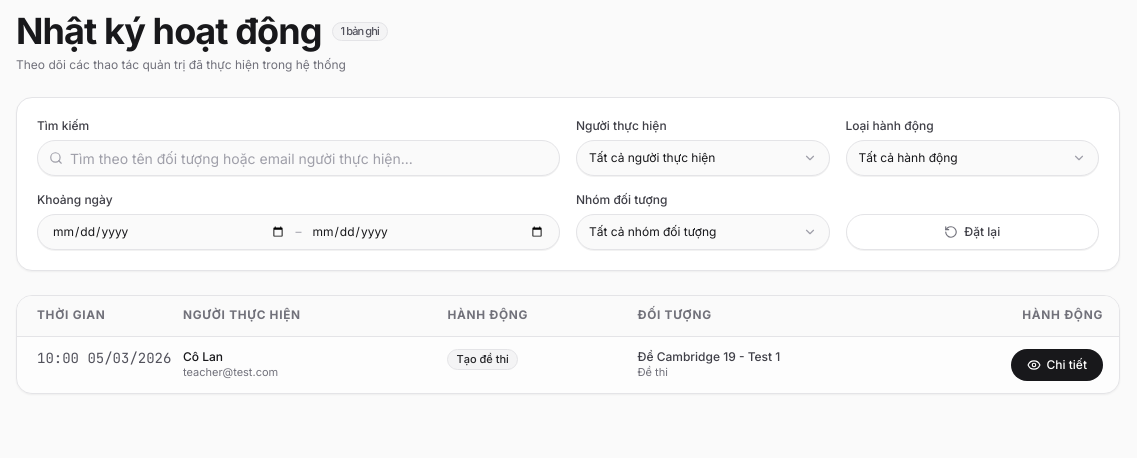
Test: AuditLogs page — trạng thái rỗng › shows a plain "no match" message (not the rollout message) when a filter yields zero results
This screenshot has width=1137, height=458.
Check: the text "Cô Lan" is shown, box [183, 349, 223, 365]
Click the button "Tất cả nhóm đối tượng" at (703, 232), box [576, 214, 830, 250]
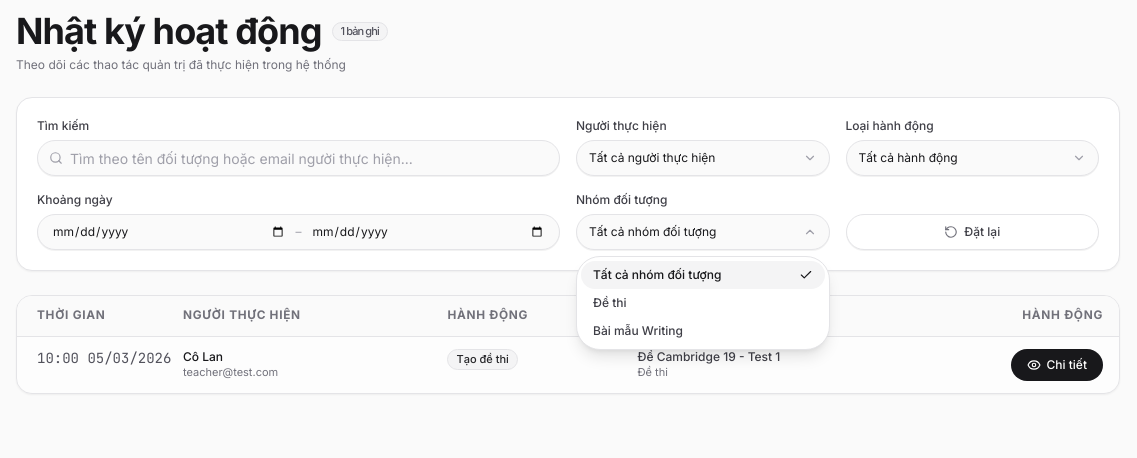
Click the option "Bài mẫu Writing" at (638, 330), box [593, 323, 683, 338]
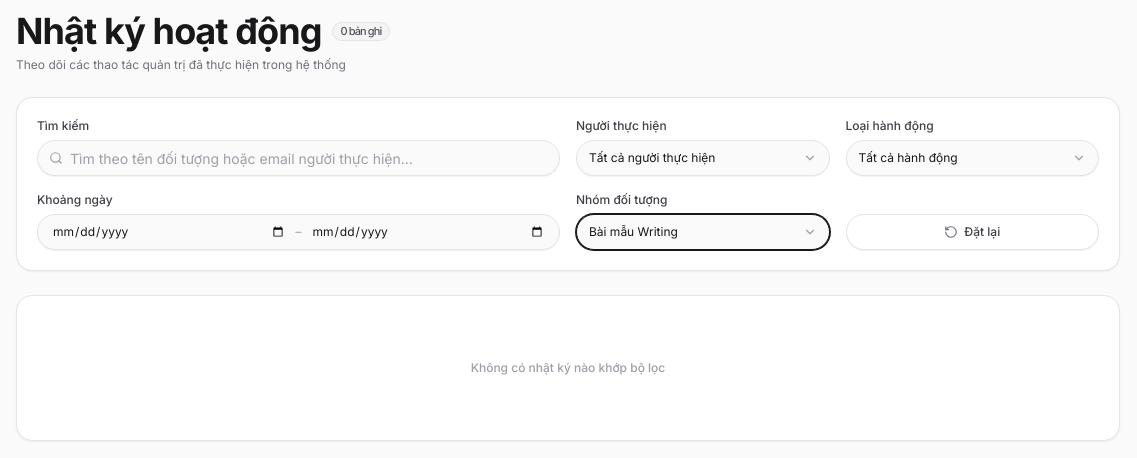
Check: the text "Không có nhật ký nào khớp bộ lọc" is shown, box [471, 360, 665, 375]
